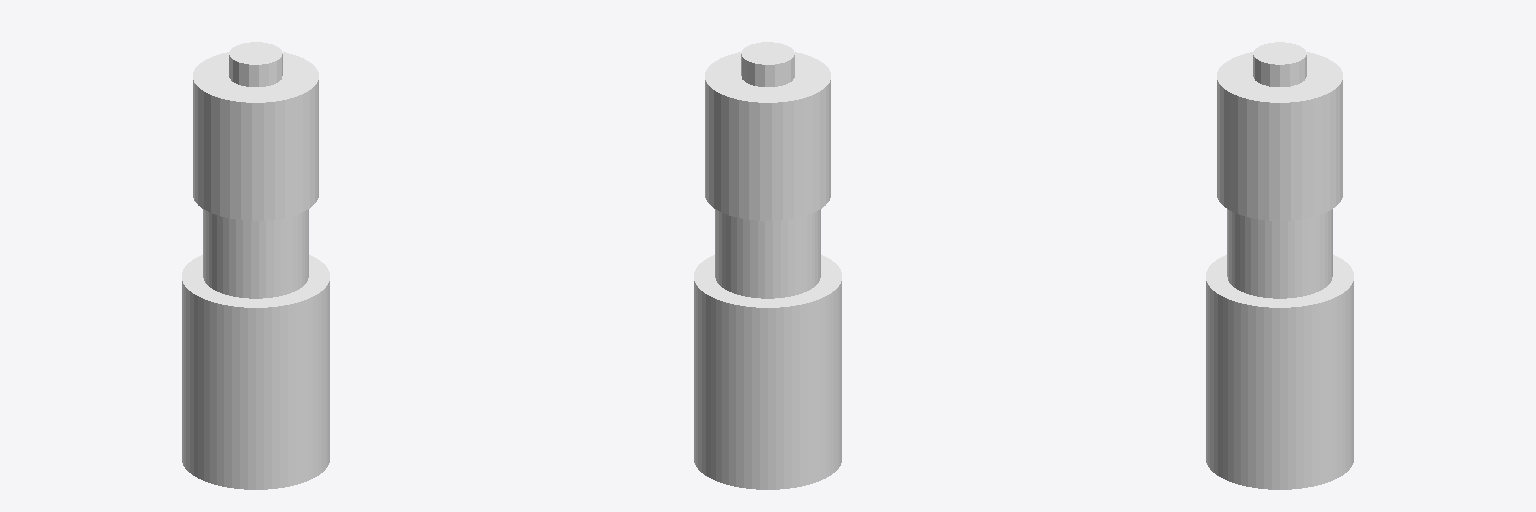
File: MASLO.obj
The picture shows the model from 3 angles: view 1: azimuth 30°, elevation 25°; view 2: azimuth 150°, elevation 25°; view 3: azimuth 270°, elevation 25°; orthographic projection.
Parts seen in each view (by area): view 1: Cylinder003; view 2: Cylinder003; view 3: Cylinder003.
Boxes of the visible parts, <box> form: Cylinder003: <box>182,42,329,489</box>; Cylinder003: <box>694,42,841,489</box>; Cylinder003: <box>1206,42,1353,489</box>.
Bounding box in the file's own units: 69.87 × 210 × 69.89.